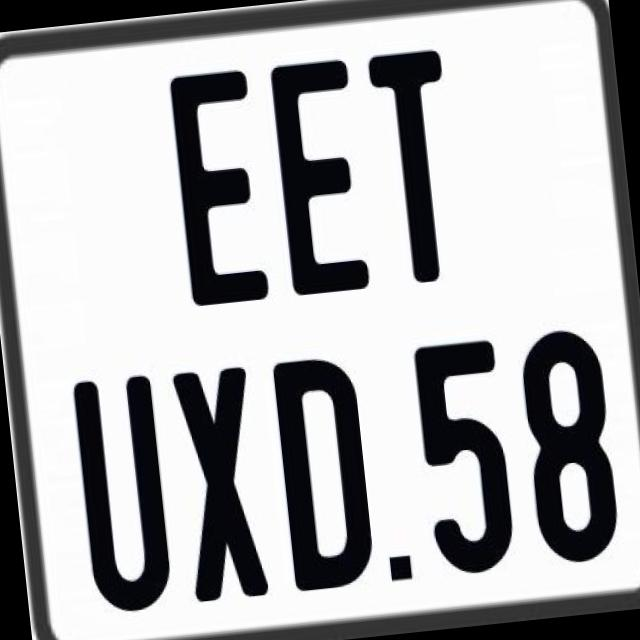5: (412, 338, 524, 578)
8: (513, 325, 619, 566)
D: (271, 356, 375, 600)
E: (264, 55, 374, 302), (164, 68, 267, 310)
T: (362, 45, 460, 282)
U: (72, 374, 180, 622)
X: (172, 364, 276, 608)
